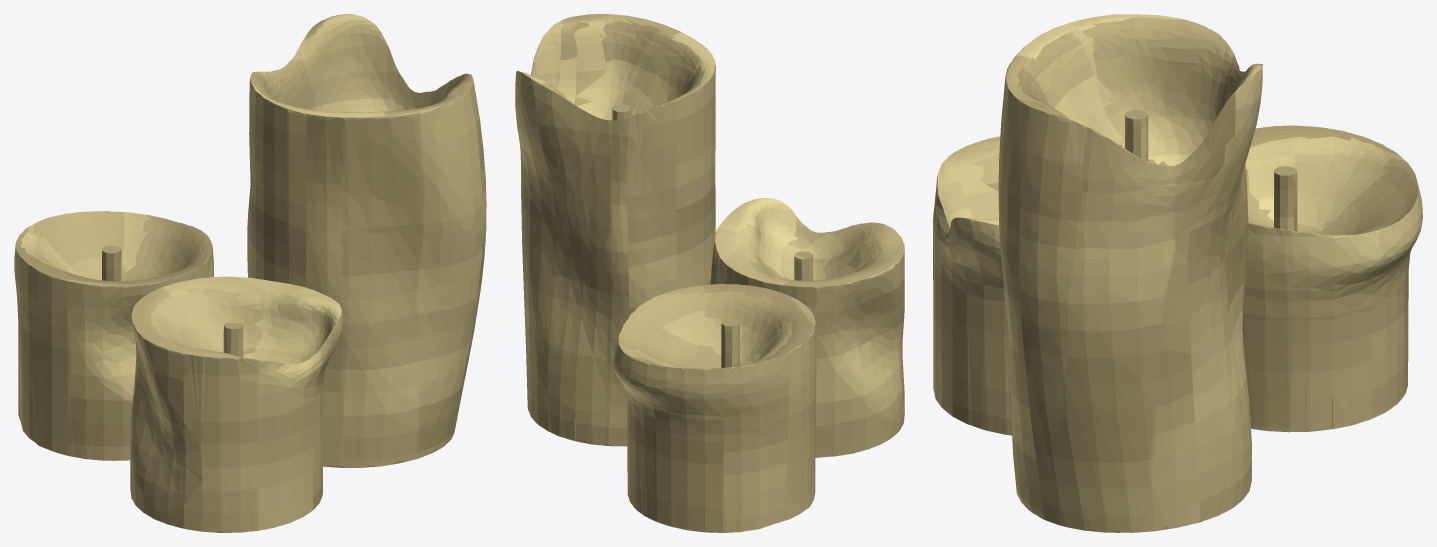
Rendered from candle1d.glb.
3 renders of one model, left to right at view 1: azimuth 30°, elevation 25°; view 2: azimuth 150°, elevation 25°; view 3: azimuth 270°, elevation 25°, orthographic. The views are drawn at different scales.
Visible parts, largest first — view 1: candle3.028; view 2: candle3.028; view 3: candle3.028.
Part boxes in pixels (<box>): candle3.028: <box>14,14,486,532</box>; candle3.028: <box>515,14,904,532</box>; candle3.028: <box>933,14,1422,532</box>.
Size of the model in its own units: 0.4298 by 0.4169 by 0.4237.
Materials: 1 (1 with a texture image).
